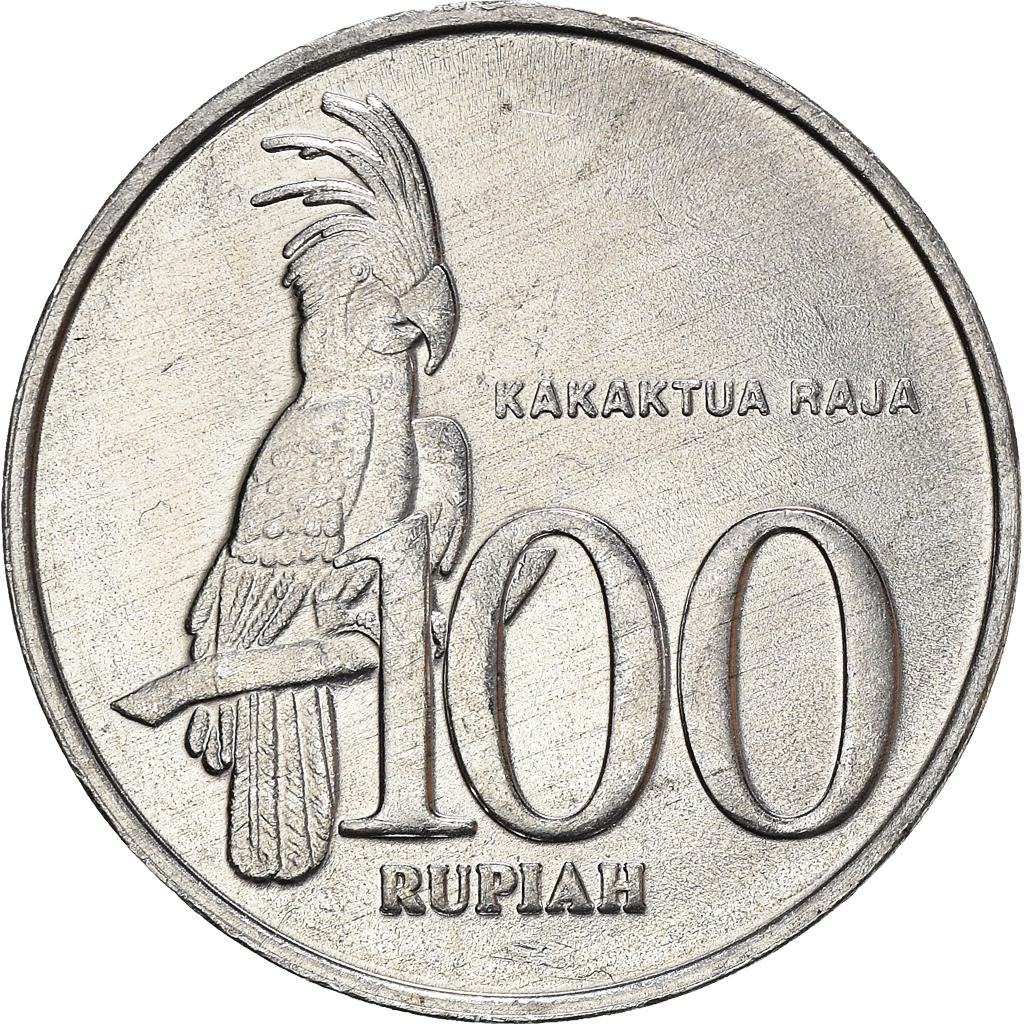coin_100_e1999: (4, 6, 1022, 1024)
